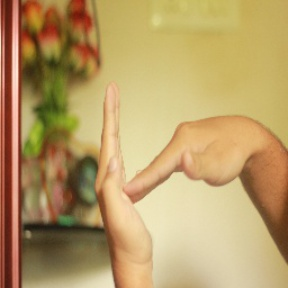Z: (80, 78, 256, 263)
